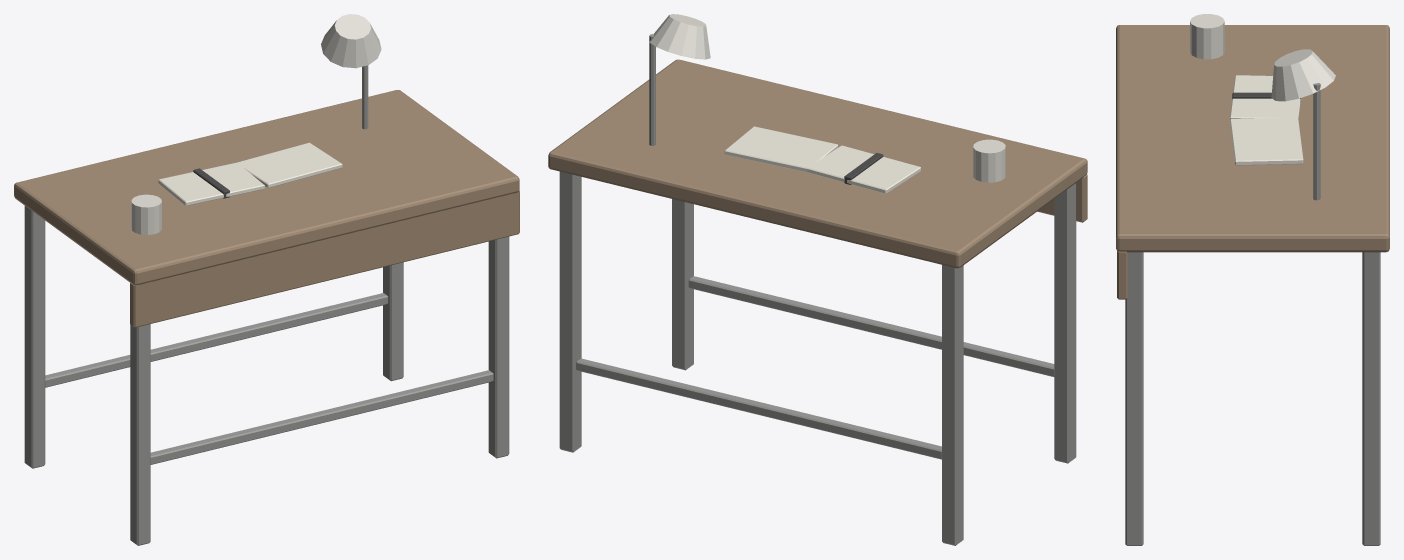
Rendered from booth_desk_01.glb.
3 renders of one model, left to right at view 1: azimuth 30°, elevation 25°; view 2: azimuth 150°, elevation 25°; view 3: azimuth 270°, elevation 25°, orthographic. The views are drawn at different scales.
Parts seen in each view (by area): view 1: booth_desk_01; view 2: booth_desk_01; view 3: booth_desk_01.
Part boxes in pixels (box(x1,y1,x2,y2)): booth_desk_01: box(14, 14, 519, 545); booth_desk_01: box(548, 14, 1087, 545); booth_desk_01: box(1116, 14, 1389, 545).
Bounding box in the file's own units: 1.1 × 1.09 × 0.6.
